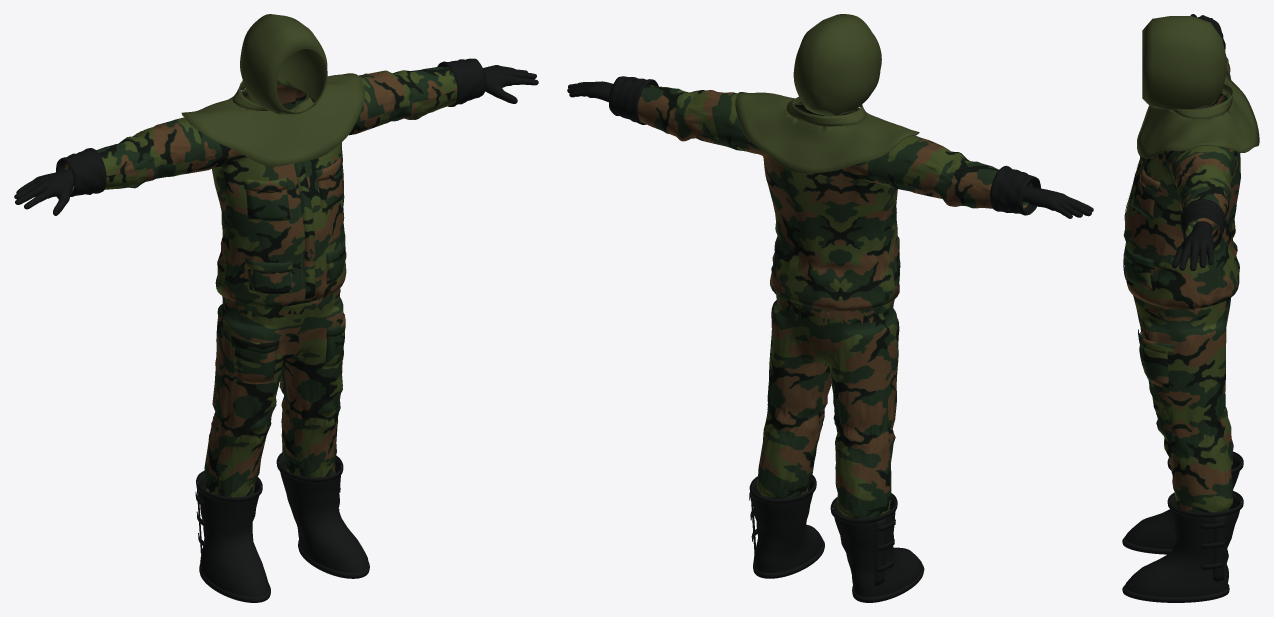
File: ProtectiveClothing_Worn.fbx
The picture shows the model from 3 angles, left to right: view 1: azimuth 30°, elevation 25°; view 2: azimuth 150°, elevation 25°; view 3: azimuth 270°, elevation 25°; orthographic projection.
Parts seen in each view (by area): view 1: Jacket_Worn, Trousers_Worn, Overboot_R_Worn, Overboot_L_Worn, Glove_R_Worn, Glove_L_Worn; view 2: Jacket_Worn, Trousers_Worn, Overboot_R_Worn, Overboot_L_Worn, Glove_R_Worn, Glove_L_Worn; view 3: Jacket_Worn, Trousers_Worn, Overboot_L_Worn, Glove_L_Worn, Overboot_R_Worn, Glove_R_Worn.
Part boxes in pixels (left/top/right/bottom): Jacket_Worn: left=64, top=14, right=457, bottom=307; Trousers_Worn: left=204, top=288, right=345, bottom=497; Overboot_R_Worn: left=195, top=470, right=270, bottom=602; Overboot_L_Worn: left=276, top=452, right=369, bottom=578; Glove_R_Worn: left=14, top=148, right=106, bottom=215; Glove_L_Worn: left=437, top=58, right=538, bottom=106; Jacket_Worn: left=637, top=14, right=1032, bottom=311; Trousers_Worn: left=756, top=295, right=899, bottom=518; Overboot_R_Worn: left=830, top=493, right=924, bottom=602; Overboot_L_Worn: left=749, top=475, right=824, bottom=578; Glove_R_Worn: left=990, top=165, right=1093, bottom=218; Glove_L_Worn: left=567, top=76, right=658, bottom=124; Jacket_Worn: left=1123, top=16, right=1259, bottom=309; Trousers_Worn: left=1133, top=295, right=1233, bottom=512; Overboot_L_Worn: left=1122, top=491, right=1243, bottom=602; Glove_L_Worn: left=1172, top=199, right=1225, bottom=270; Overboot_R_Worn: left=1122, top=451, right=1243, bottom=554; Glove_R_Worn: left=1190, top=14, right=1225, bottom=50.
Bounding box in the file's own units: 1.78 × 1.8 × 0.407.
Materials: 1 (1 with a texture image).
